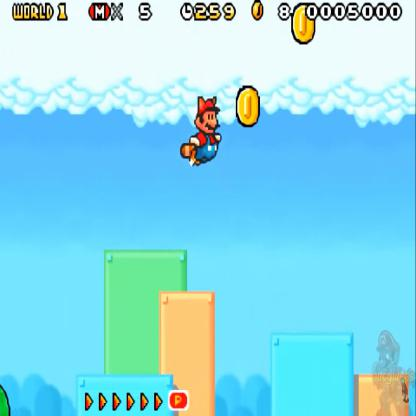Mario: (182, 92, 223, 167)
moneda: (290, 2, 320, 47), (236, 86, 265, 131)
